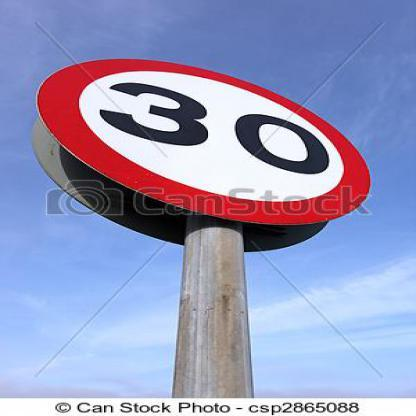Speed Limit 30: (38, 59, 370, 221)
